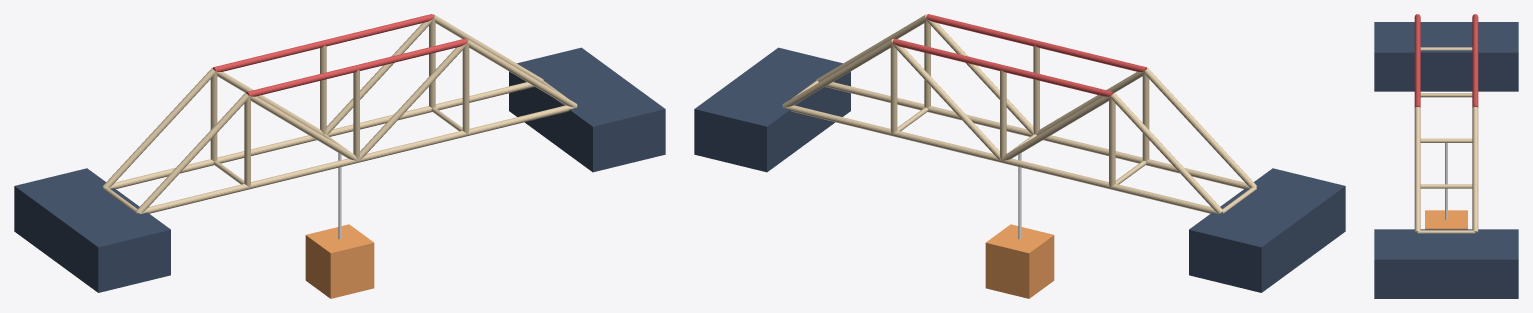
The model's file is ar-bab11-jembatan-stik.glb.
The picture shows the model from 3 angles, left to right: view 1: azimuth 30°, elevation 25°; view 2: azimuth 150°, elevation 25°; view 3: azimuth 270°, elevation 25°; orthographic projection. The views are drawn at different scales.
Parts seen in each view (by area): view 1: geometry_31, geometry_32, geometry_34, geometry_19, geometry_6, geometry_25, geometry_12, geometry_20, geometry_24, geometry_4, geometry_17, geometry_18 (+17 smaller); view 2: geometry_31, geometry_32, geometry_34, geometry_6, geometry_19, geometry_12, geometry_25, geometry_7, geometry_11, geometry_4, geometry_17, geometry_5 (+17 smaller); view 3: geometry_32, geometry_31, geometry_7, geometry_20, geometry_34, geometry_5, geometry_18, geometry_4, geometry_17, geometry_29, geometry_27, geometry_28 (+3 smaller).
Boxes of the visible parts, x1,y1,x2,y2 form: geometry_31: (14,168,170,292); geometry_32: (509,47,665,172); geometry_34: (305,224,374,298); geometry_19: (136,93,249,213); geometry_6: (102,68,215,187); geometry_25: (358,43,467,160); geometry_12: (326,19,433,134); geometry_20: (466,39,577,107); geometry_24: (249,96,358,160); geometry_4: (212,40,324,71); geometry_17: (246,65,358,96); geometry_18: (356,38,467,70); geometry_31: (1189,168,1345,292); geometry_32: (694,47,850,172); geometry_34: (985,224,1054,298); geometry_6: (1110,93,1223,213); geometry_19: (1144,68,1257,187); geometry_12: (892,43,1001,160); geometry_25: (926,19,1033,134); geometry_7: (782,39,893,107); geometry_11: (1001,96,1110,160); geometry_4: (1001,65,1113,96); geometry_17: (1035,40,1147,71); geometry_5: (892,38,1003,70); geometry_32: (1374,229,1518,298); geometry_31: (1374,22,1518,91); geometry_7: (1472,107,1478,232); geometry_20: (1414,107,1420,232); geometry_34: (1425,210,1467,229); geometry_5: (1472,60,1478,107); geometry_18: (1414,60,1420,107); geometry_4: (1472,14,1478,61); geometry_17: (1414,14,1420,61); geometry_29: (1420,184,1472,188); geometry_27: (1420,93,1472,97); geometry_28: (1420,138,1472,142).
Size of the model in its own units: 0.78 by 0.304 by 0.2.
